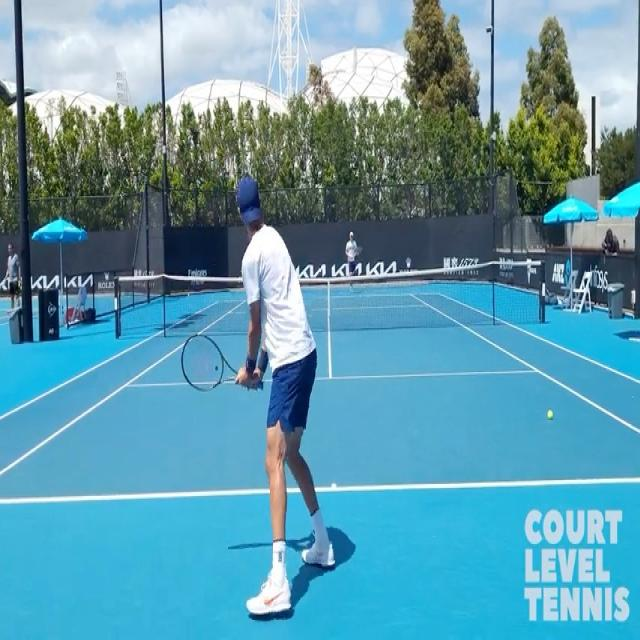backhand-ready: (172, 172, 346, 620)
